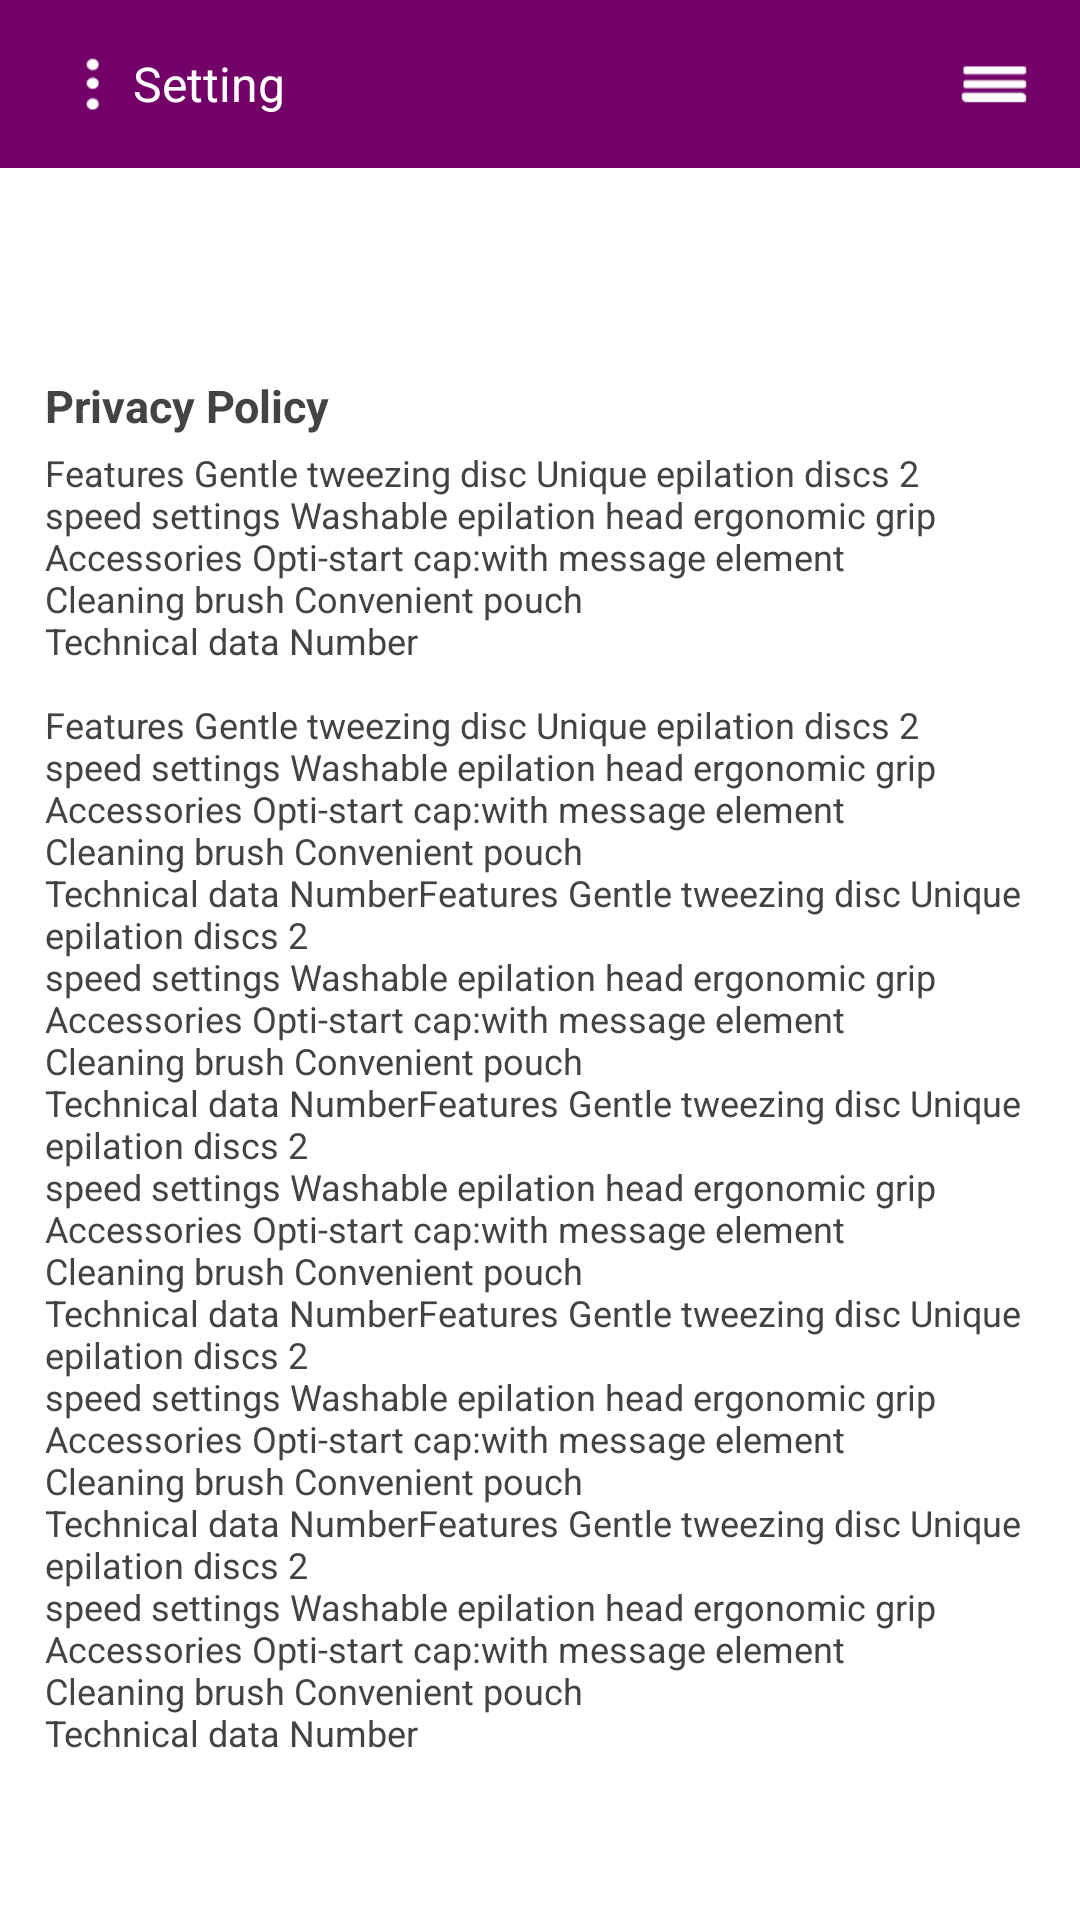

Locate icon controls on the screen. Image size 1080 x 1920, boxes as [left=x1, top=y1, right=x2, bottom=y2].
menu: [left=961, top=66, right=1027, bottom=103]
